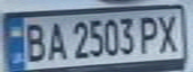0: (103, 16, 121, 56)
2: (66, 17, 90, 60)
3: (118, 15, 139, 56)
5: (87, 16, 106, 58)
A: (42, 19, 69, 62)
B: (21, 19, 48, 63)
P: (136, 12, 163, 54)
X: (154, 11, 184, 54)
